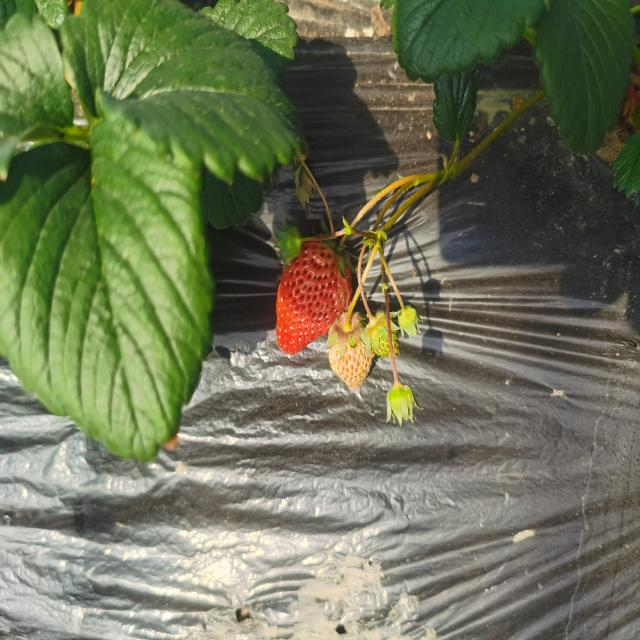strawberry: (276, 241, 352, 355)
